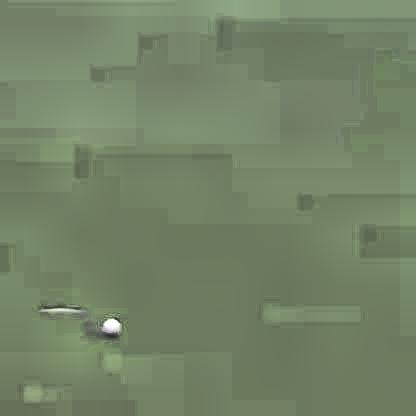golfball: (98, 314, 120, 337)
